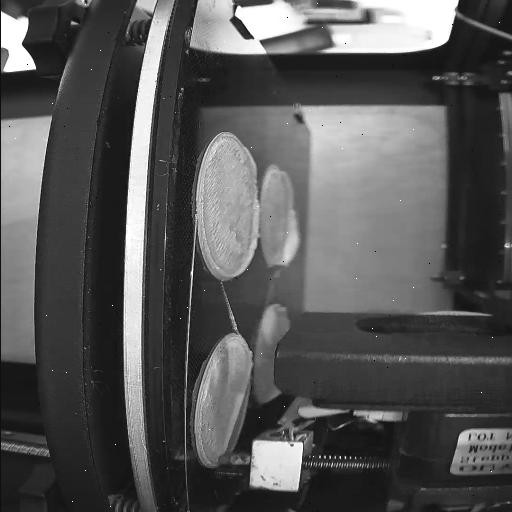over_extrusion: (197, 198, 260, 278), (218, 354, 255, 454), (272, 210, 304, 270), (276, 170, 298, 207), (238, 146, 260, 182)
